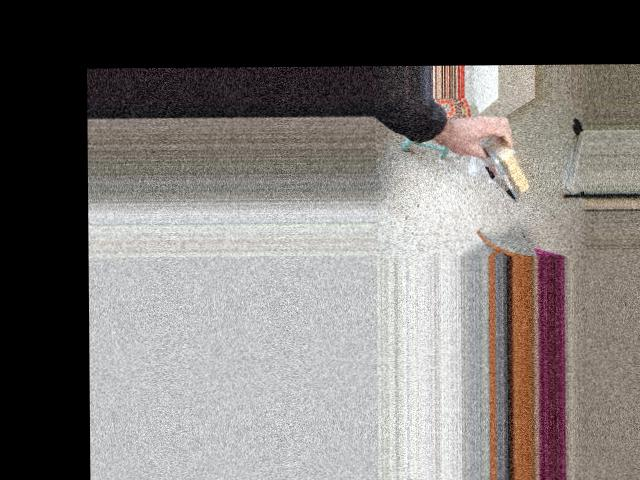cheese: (463, 103, 544, 205)
